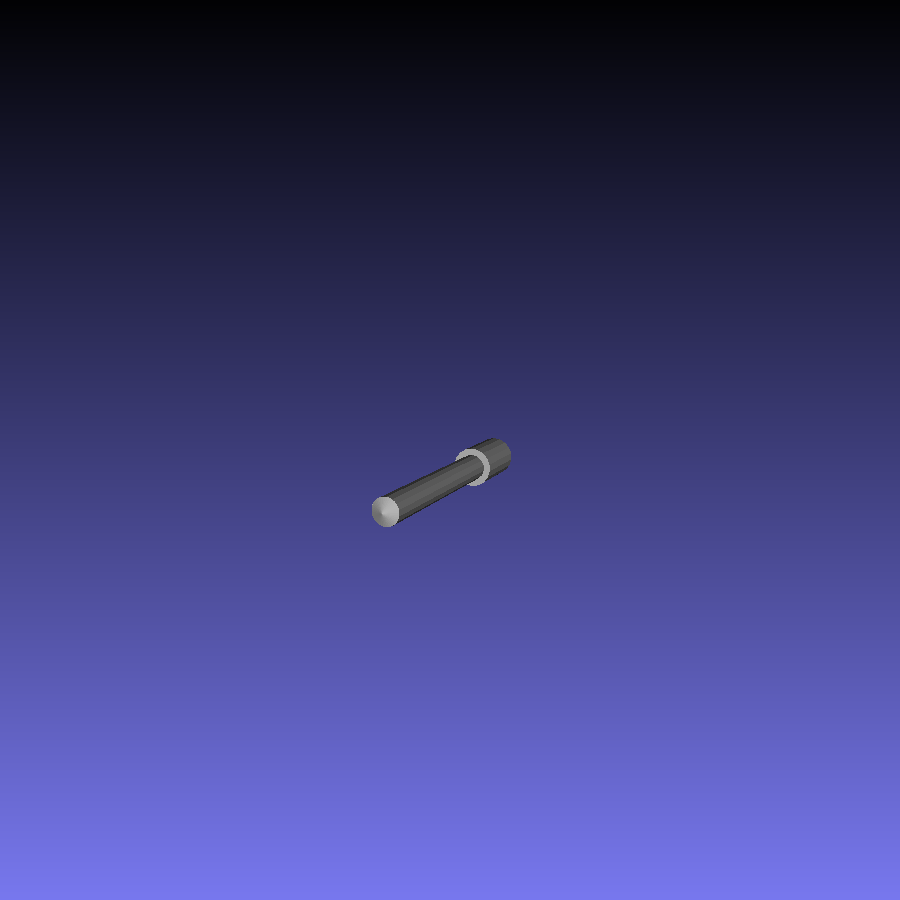cargo_g: (370, 436, 511, 529)
